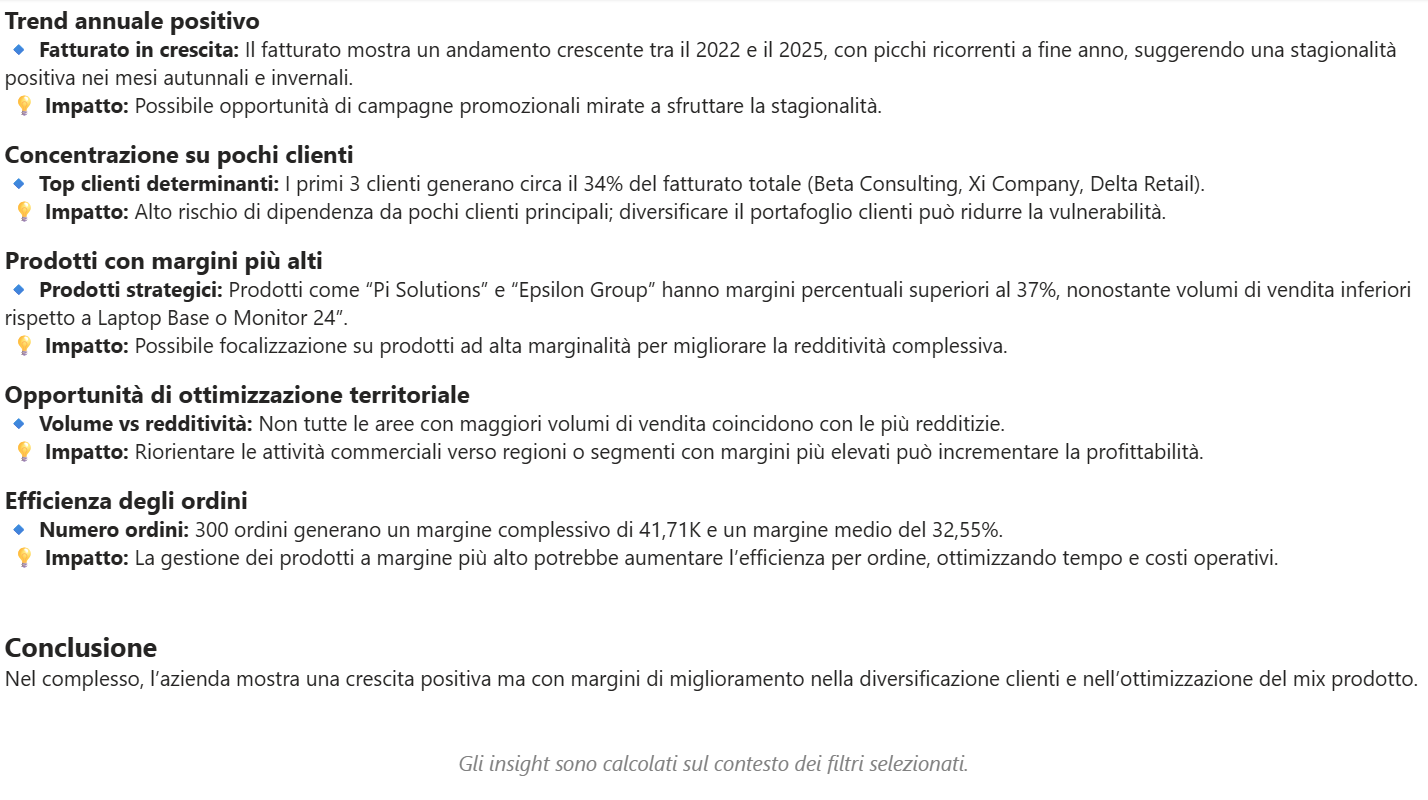

The page's visual inventory and layout, read from the dashboard file:
{"tool":"powerbi","page":{"name":"Pagina 2","canvas":[1280,720],"ordinal":1},"visuals":[{"type":"textbox","box":[0,0,1279.7,720],"z":0}]}

Visuals, with their boxes in screenshot pixels (x1, y1, x2, y2), scaled from the page's 1280x720 canvas onto the 1428x800 screenshot:
textbox: [x1=0, y1=0, x2=1427, y2=799]
